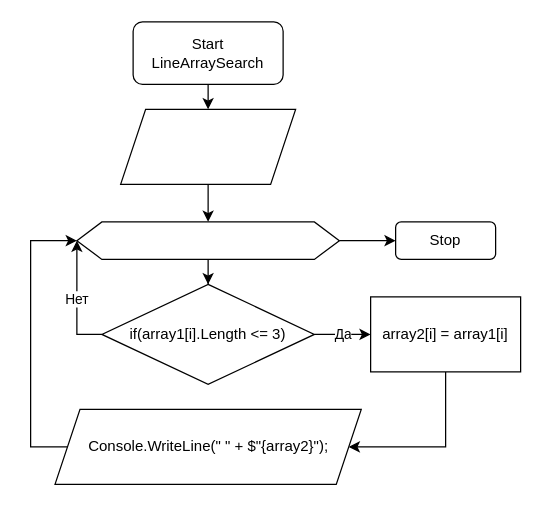
Image size: 543x506. Some labels were removed from this diagram. Each missing label, with the box of its shape:
for (int i = 0; i < array1.Length; i++: (76, 221, 339, 259)
string [] array1 string [] array2: (119, 108, 296, 184)
